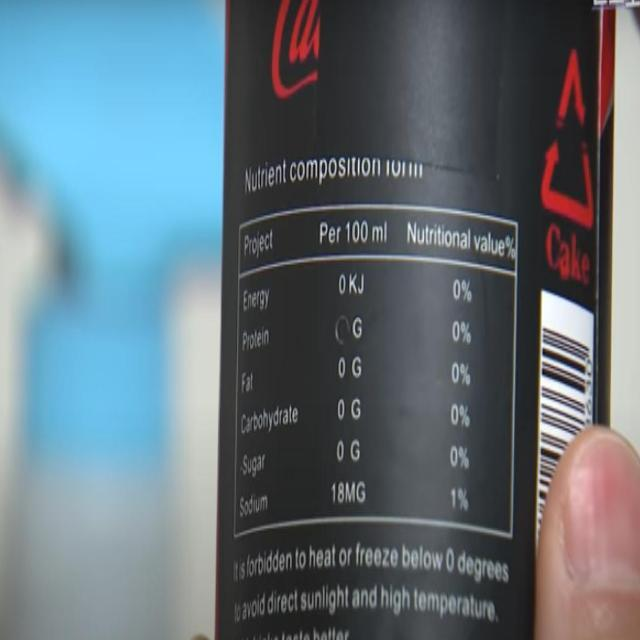hidden camera: (334, 314, 351, 351)
